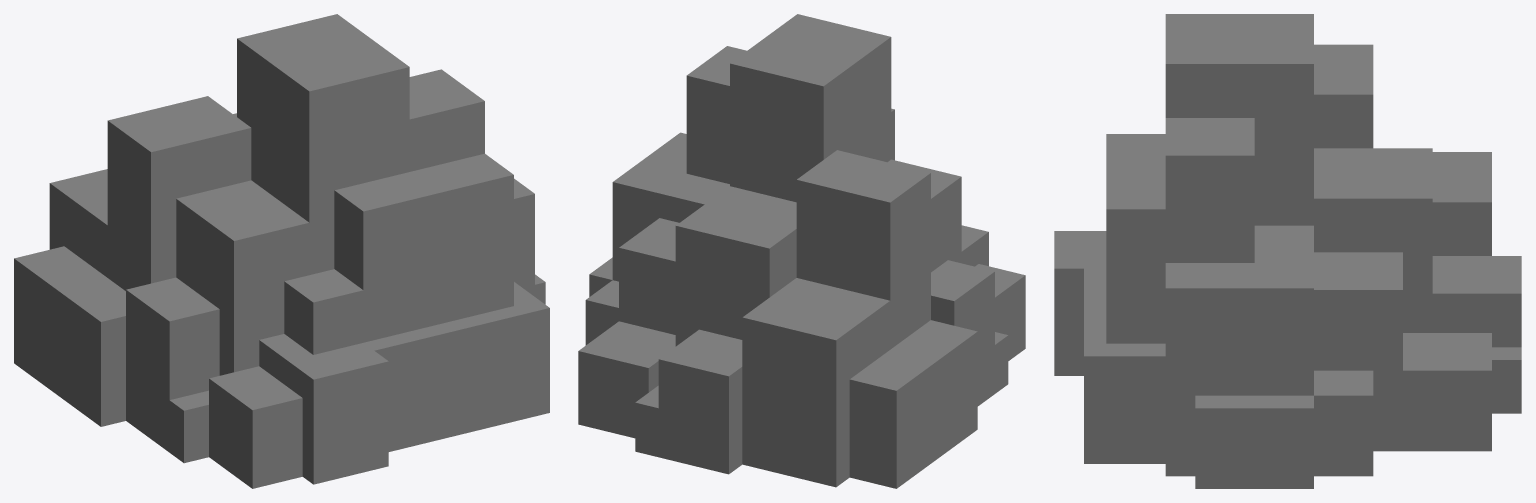
File: Mountain.glb
3 renders of one model, left to right at view 1: azimuth 30°, elevation 25°; view 2: azimuth 150°, elevation 25°; view 3: azimuth 270°, elevation 25°, orthographic. The views are drawn at different scales.
Visible parts, largest first — view 1: Mountain; view 2: Mountain; view 3: Mountain.
Part boxes in pixels (x1,y1,x2,y2): Mountain: (14,14,549,488); Mountain: (578,14,1025,488); Mountain: (1054,14,1521,488).
Size of the model in its own units: 1 by 0.8125 by 0.9844.
Materials: 1 (1 with a texture image).
